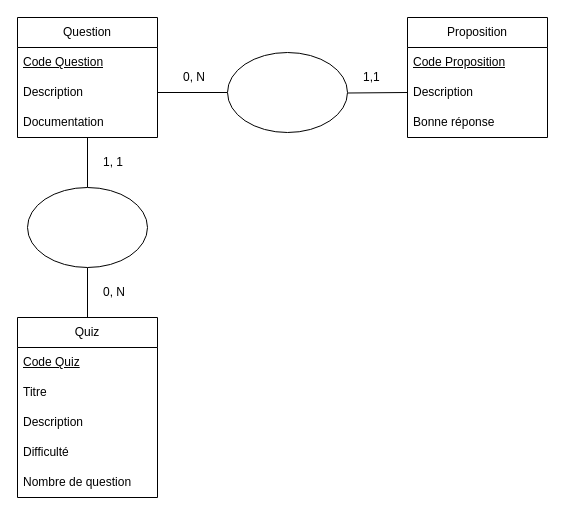
The diagram is 565 pixels wide and 515 high, and some of its shapes have lost their labels. Each missing label, with the box of its shape:
Contient: (226, 52, 348, 132)
Possède: (26, 186, 148, 268)
